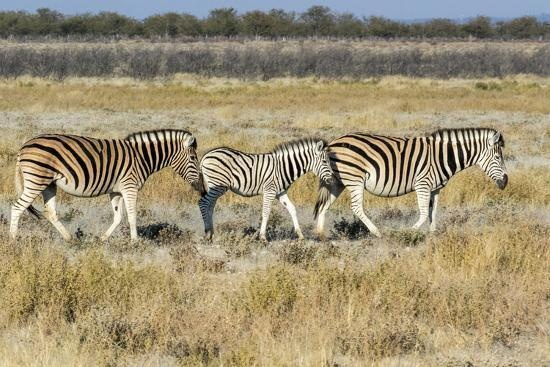zebra: (6, 124, 203, 249), (312, 125, 509, 243), (194, 132, 338, 244)
